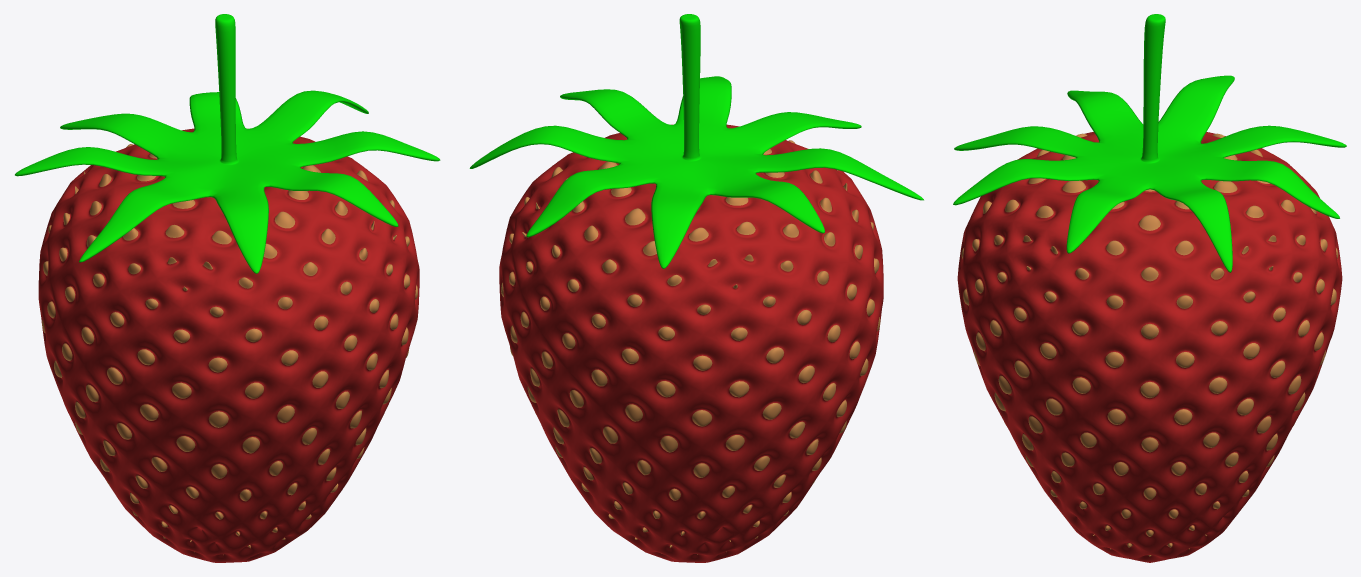
Rendered from Strawberry1.fbx.
3 renders of one model, left to right at view 1: azimuth 30°, elevation 25°; view 2: azimuth 150°, elevation 25°; view 3: azimuth 270°, elevation 25°, orthographic.
Visible parts, largest first — view 1: strawberry; view 2: strawberry; view 3: strawberry.
Part boxes in pixels (x1,y1,x2,y2): strawberry: [15, 14, 440, 562]; strawberry: [469, 14, 923, 562]; strawberry: [953, 14, 1346, 562].
Size of the model in its own units: 188 by 260 by 173.
